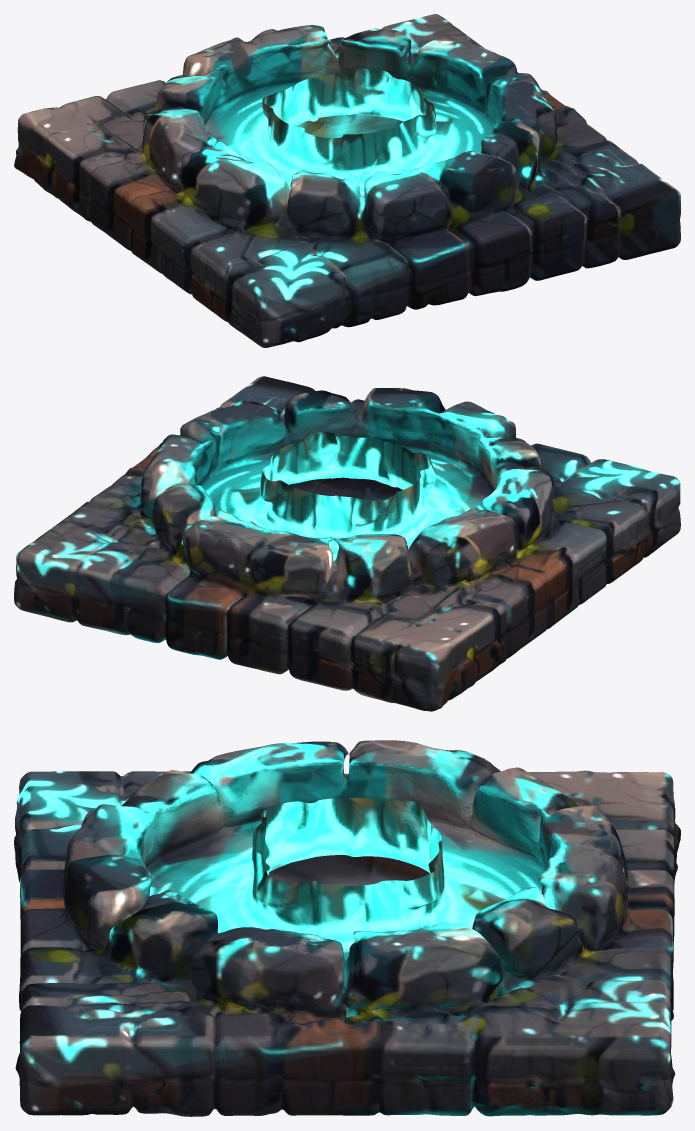
File: idol_water_plate.glb
3 renders of one model, top to bottom at view 1: azimuth 30°, elevation 25°; view 2: azimuth 150°, elevation 25°; view 3: azimuth 270°, elevation 25°, orthographic. The views are drawn at different scales.
Parts seen in each view (by area): view 1: idol_water_plate; view 2: idol_water_plate; view 3: idol_water_plate.
Part boxes in pixels (left/top/right/bottom): idol_water_plate: left=14, top=14, right=680, bottom=347; idol_water_plate: left=14, top=376, right=680, bottom=711; idol_water_plate: left=14, top=740, right=680, bottom=1116.
Bounding box in the file's own units: 1.99 × 0.4728 × 2.
Materials: 1 (1 with a texture image).
